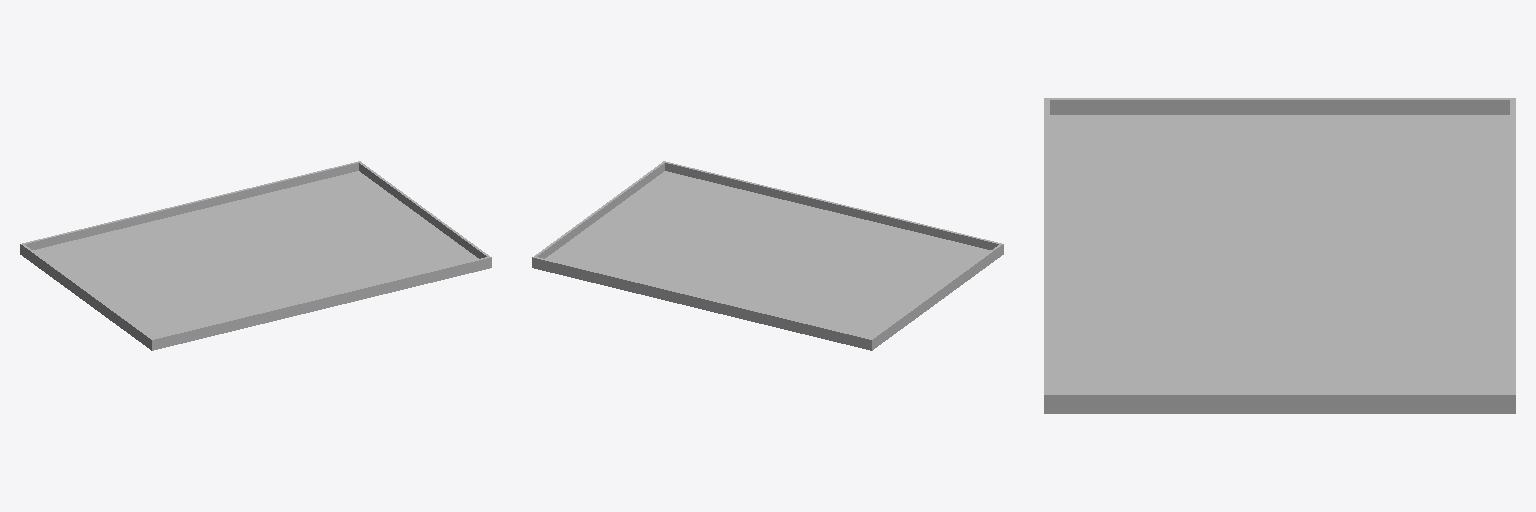
robot.urdf — onshape:
<robot name="onshape">

    <link name="table">
        <visual>
            <origin xyz="0 0 0" rpy="0 -0 0" />
            <geometry>
                <mesh filename="Table2024.stl"/>
            </geometry>
            <material name="table_material">
                <color rgba="0.77254901960784316817 0.77254901960784316817 0.77254901960784316817 1.0"/>
            </material>
        </visual>
        <collision>
            <origin xyz="0 0 0" rpy="0 -0 0" />
            <geometry>
                <mesh filename="Table2024.stl"/>
            </geometry>
        </collision>
    <inertial>
        <origin xyz="-9.1050778845853024969e-17 2.1761136144158871427e-17 -0.0063113582721717482321" rpy="0 0 0"/>
        <mass value="108.21685951999999986" />
        <inertia ixx="42.128020540472910227" ixy="-4.2502890096329792162e-14"  ixz="6.8355653600252125933e-16" iyy="90.198768976952877097" iyz="0" izz="132.26801983573832899" />
    </inertial>
    </link>

</robot>

--- Render facts (derived) ---
Views: 3 orthographic renders of the robot side by side, from view 1: azimuth 30°, elevation 25°; view 2: azimuth 150°, elevation 25°; view 3: azimuth 270°, elevation 25°.
Robot: onshape — 1 links, 0 joints (none); root link table; default pose: every joint at zero.
Links seen in each view (by area): view 1: table; view 2: table; view 3: table.
Link boxes in pixels (left/top/right/bottom): table: left=20, top=161, right=491, bottom=350; table: left=532, top=161, right=1003, bottom=350; table: left=1044, top=98, right=1515, bottom=413.
Size in the robot's own frame: 3.04 by 2.04 by 0.092 metres.
1 mesh visuals loaded from 1 distinct referenced files (1 binary STL).